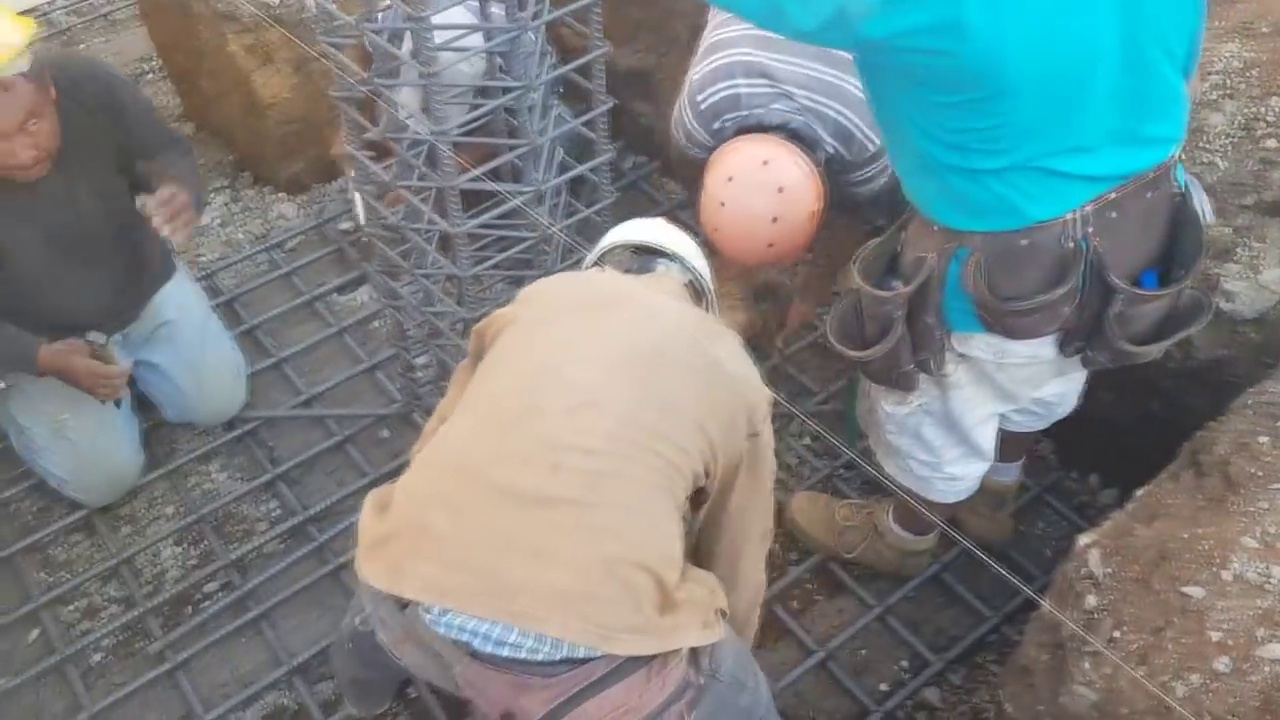helmet: (705, 128, 826, 282), (581, 215, 712, 298)
helmet-off: (0, 20, 67, 194)
helmet-on: (578, 212, 716, 324)
person: (742, 0, 1226, 579), (324, 206, 789, 720), (0, 12, 250, 490), (668, 2, 910, 286), (348, 5, 582, 222)
